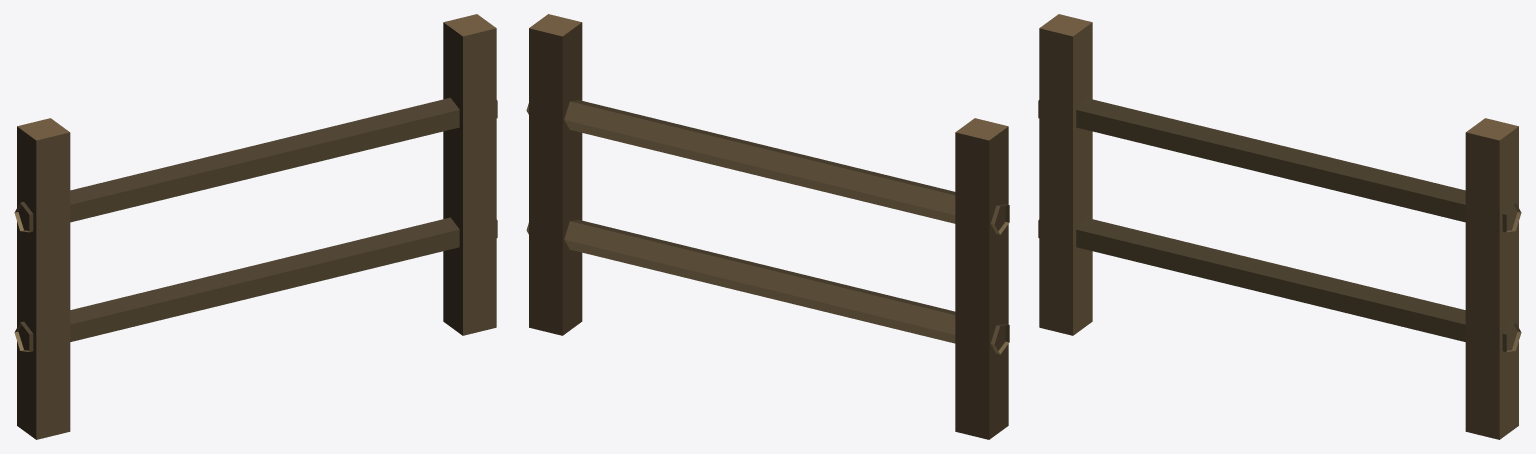
3 views of the same model, side by side, from view 1: azimuth 30°, elevation 25°; view 2: azimuth 150°, elevation 25°; view 3: azimuth 330°, elevation 25° (orthographic).
Visible parts, largest first — view 1: 0567d7245661b29595ca9063ec2023d23114d0b290552146e9fdaa344d57; view 2: 0567d7245661b29595ca9063ec2023d23114d0b290552146e9fdaa344d57; view 3: 0567d7245661b29595ca9063ec2023d23114d0b290552146e9fdaa344d57.
Part boxes in pixels (x1,y1,x2,y2): 0567d7245661b29595ca9063ec2023d23114d0b290552146e9fdaa344d57: (14, 14, 497, 439); 0567d7245661b29595ca9063ec2023d23114d0b290552146e9fdaa344d57: (526, 14, 1009, 439); 0567d7245661b29595ca9063ec2023d23114d0b290552146e9fdaa344d57: (1038, 14, 1521, 439).
Bounding box in the file's own units: 1.8 × 1.1 × 0.13.
